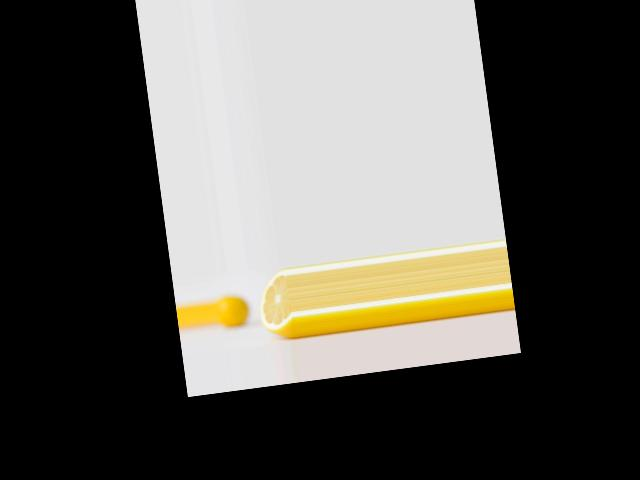lemon: (214, 295, 249, 326)
